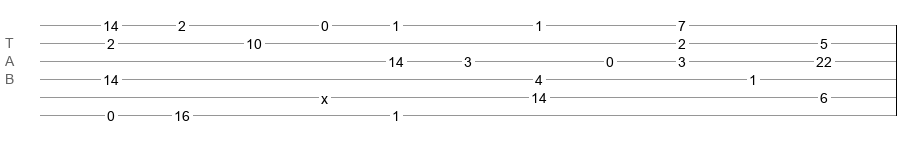0: (107, 108, 115, 118), (321, 18, 329, 28), (606, 54, 614, 64)
1: (392, 18, 400, 28), (392, 108, 400, 118), (535, 18, 543, 28), (749, 72, 757, 82)
10: (246, 36, 262, 46)
14: (103, 72, 119, 82), (103, 18, 119, 28), (388, 54, 404, 64), (531, 90, 547, 100)
16: (174, 108, 190, 118)
2: (107, 36, 115, 46), (178, 18, 186, 28), (678, 36, 686, 46)
22: (816, 54, 832, 64)
3: (464, 54, 472, 64), (678, 54, 686, 64)
4: (535, 72, 543, 82)
5: (820, 36, 828, 46)
6: (820, 90, 828, 100)
7: (678, 18, 686, 28)
x: (321, 91, 328, 99)
